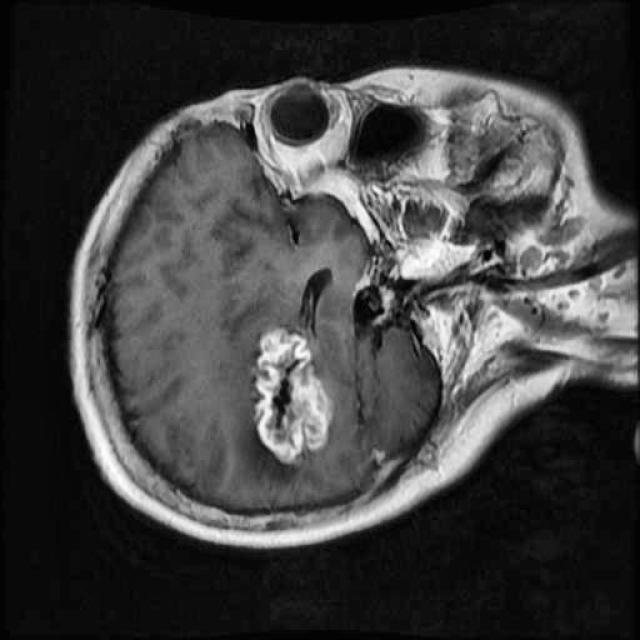Tumor: (242, 309, 346, 482)
